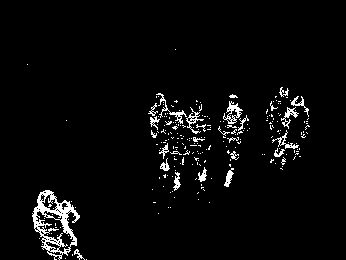person: (28, 189, 86, 260), (217, 91, 251, 186), (158, 99, 189, 193), (186, 97, 214, 187), (264, 85, 295, 163), (147, 88, 172, 177), (280, 92, 309, 167)
